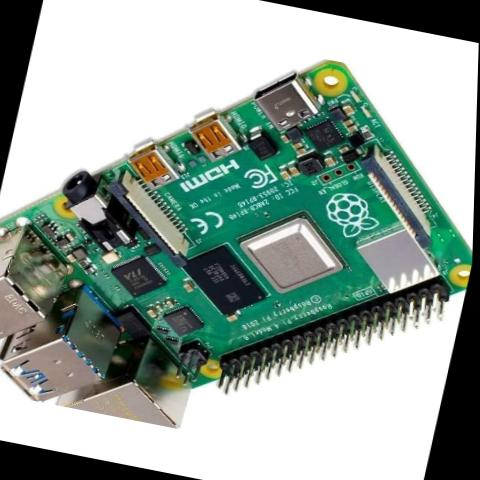Raspberry-Pi-4-Model-B: (0, 3, 480, 476)
